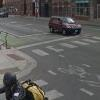Crosswalk: (22, 39, 100, 60)
